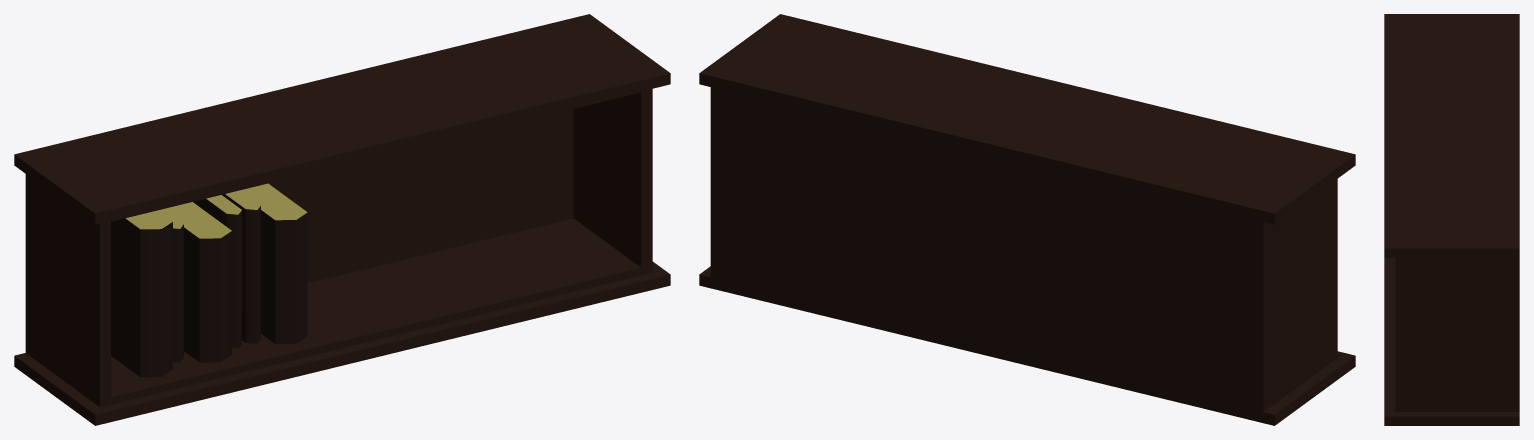
Rendered from Wall_Book_shelf_type1.FBX.
3 views of the same model, side by side, from view 1: azimuth 30°, elevation 25°; view 2: azimuth 150°, elevation 25°; view 3: azimuth 270°, elevation 25° (orthographic). The views are drawn at different scales.
Parts seen in each view (by area): view 1: Wall_Book_shelf_type1_01, Book_type1_01, Book_type3_1, Book_type6_01, Book_type5_1, Book_type4_01, Book_type2_01; view 2: Wall_Book_shelf_type1_01; view 3: Wall_Book_shelf_type1_01.
Part boxes in pixels (x1,y1,x2,y2): Wall_Book_shelf_type1_01: (14,14,670,425); Book_type1_01: (111,210,172,377); Book_type3_1: (163,202,231,362); Book_type6_01: (241,183,307,344); Book_type5_1: (222,190,260,343); Book_type4_01: (193,195,241,348); Book_type2_01: (158,209,183,362); Wall_Book_shelf_type1_01: (699,14,1355,425); Wall_Book_shelf_type1_01: (1384,14,1519,425).
Size of the model in its own units: 264 by 93.22 by 64.52.
